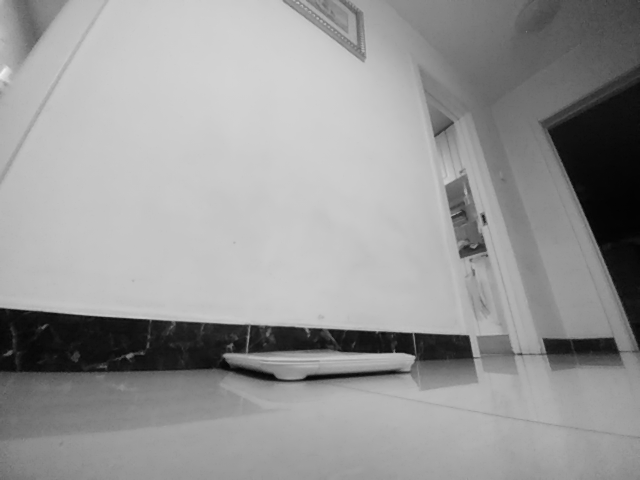scale: (220, 350, 416, 381)
